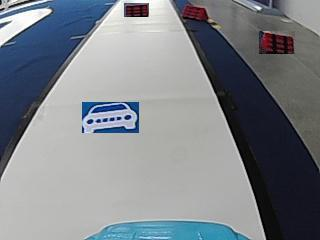bomb: (182, 4, 208, 21)
